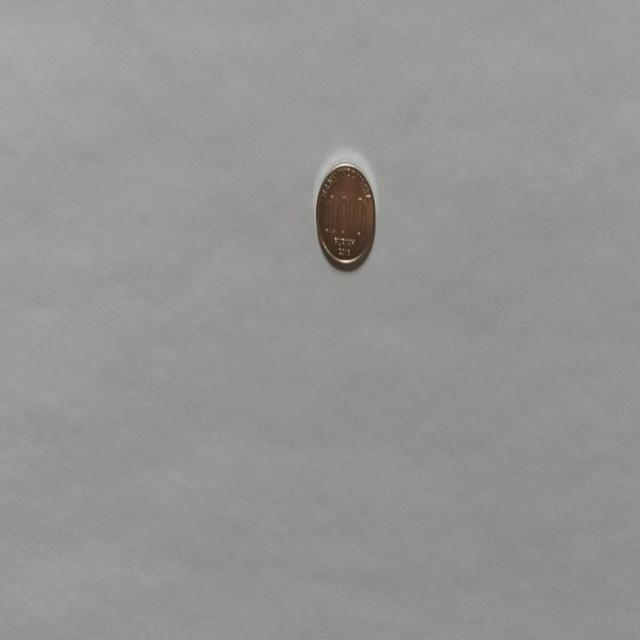seratus rupiah: (314, 160, 376, 271)
